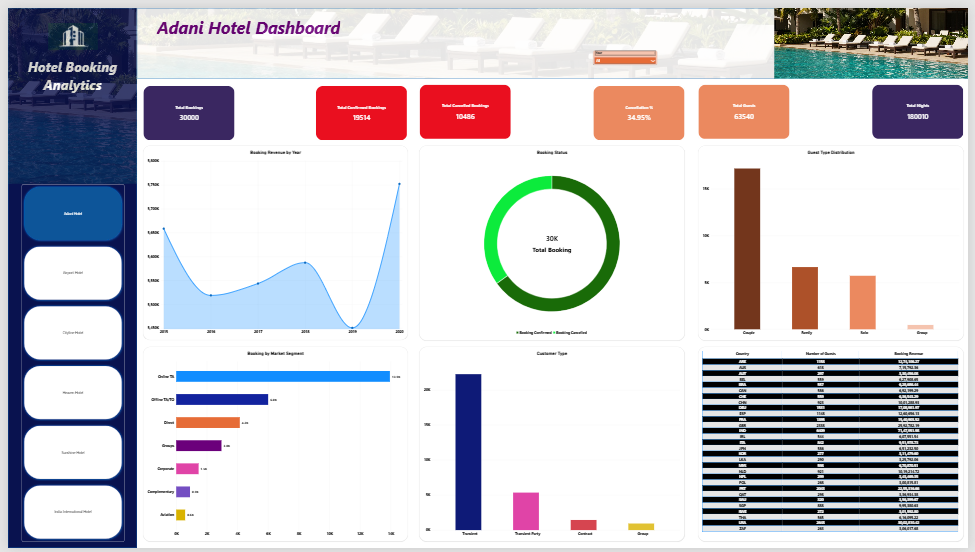

The page's visual inventory and layout, read from the dashboard file:
{"tool":"powerbi","page":{"name":"Adani Hotel","canvas":[3840,2160],"ordinal":0},"visuals":[{"type":"shape","box":[0,0,516,2160],"z":0},{"type":"image","box":[158,62,200,107],"z":1000},{"type":"shape","box":[516,0,3324,282],"z":2000},{"type":"image","box":[3065,0,775,282.5],"z":3000},{"type":"image","box":[515,0,2550,282.5],"z":4000},{"type":"donutChart","title":"Booking  Status ","fields":{"Category":["Adani_Hotel.Booking  Status"],"Y":["CountNonNull(Adani_Hotel.Booking  Status)"]},"box":[1646.3,551.2,1061.7,780],"z":5000},{"type":"barChart","title":"Booking by Market Segment ","fields":{"Category":["Adani_Hotel.market_segment"],"Y":["CountNonNull(Adani_Hotel.market_segment)"]},"box":[540.2,1355.2,1059.8,778.2],"z":6000},{"type":"clusteredColumnChart","title":"Guest  Type  Distribution","fields":{"Category":["Adani_Hotel.Guest Type"],"Y":["CountNonNull(Adani_Hotel.Guest Type)"]},"box":[2760,550,1063.3,780],"z":7000},{"type":"lineChart","box":[887.3,2296.4,2549,150],"z":8000},{"type":"stackedAreaChart","title":"Booking  Revenue by Year","fields":{"Category":["Adani_Hotel.Year"],"Y":["Sum(Adani_Hotel.Booking  Revenue)"]},"box":[538.3,550,1060,778.3],"z":9000},{"type":"cardVisual","title":"Total Bookings","fields":{"Data":["Adani_Hotel.Total Bookings"]},"box":[1231.4,308.6,367.5,220],"z":10000},{"type":"cardVisual","title":"Total Bookings","fields":{"Data":["Adani_Hotel.Total cancelled Bookings"]},"box":[1645.7,307.1,367.5,220],"z":11000},{"type":"cardVisual","title":"Total Bookings","fields":{"Data":["Adani_Hotel.Total Nights"]},"box":[3454.8,307.1,367.5,220],"z":13000},{"type":"cardVisual","title":"Total Bookings","fields":{"Data":["Adani_Hotel.Cancellation %"]},"box":[2340,308.6,367.5,220],"z":14000},{"type":"image","box":[0,0,516.7,703.3],"z":15000},{"type":"pageNavigator","box":[56.7,703.3,410,1430],"z":16000},{"type":"slicer","fields":{"Values":["Adani_Hotel.Year"]},"box":[2339.3,169.6,257.8,57.8],"z":17000},{"type":"slicer","fields":{"Values":["Adani_Hotel.Month"]},"box":[1646.4,169.6,257.8,57.8],"z":18000},{"type":"clusteredColumnChart","title":"Customer Type","fields":{"Category":["Adani_Hotel.customer_type"],"Y":["CountNonNull(Adani_Hotel.customer_type)"]},"box":[1646,1355.2,1060.9,778.2],"z":19000},{"type":"tableEx","fields":{"Values":["Adani_Hotel.country","CountNonNull(Adani_Hotel.country)","Sum(Adani_Hotel.Booking  Revenue)"]},"box":[2759.8,1355.2,1062.1,778.2],"z":20000},{"type":"cardVisual","title":"Total Bookings","fields":{"Data":["CountNonNull(Adani_Hotel.Booking  Status)"]},"box":[538.8,308.8,367.5,220],"z":21000},{"type":"cardVisual","title":"Total Bookings","fields":{"Data":["Adani_Hotel.Total Guests"]},"box":[2759.5,307.1,367.5,220],"z":21001}]}

Visuals, with their boxes in screenshot pixels (x1, y1, x2, y2), scaled from the page's 3840x2160 canvas onto the 975x552 screenshot:
shape: 0,0,131,551
image: 40,16,91,43
shape: 131,0,974,72
image: 778,0,974,72
image: 131,0,778,72
"Booking  Status " donutChart: 418,141,688,340
"Booking by Market Segment " barChart: 137,346,406,545
"Guest  Type  Distribution" clusteredColumnChart: 701,141,971,340
"Booking  Revenue by Year" stackedAreaChart: 137,141,406,339
"Total Bookings" cardVisual: 313,79,406,135
"Total Bookings" cardVisual: 418,78,511,135
"Total Bookings" cardVisual: 877,78,971,135
"Total Bookings" cardVisual: 594,79,687,135
image: 0,0,131,180
pageNavigator: 14,180,118,545
slicer - Adani_Hotel.Year: 594,43,659,58
slicer - Adani_Hotel.Month: 418,43,483,58
"Customer Type" clusteredColumnChart: 418,346,687,545
tableEx - Adani_Hotel.country x CountNonNull(Adani_Hotel.country): 701,346,970,545
"Total Bookings" cardVisual: 137,79,230,135
"Total Bookings" cardVisual: 701,78,794,135
